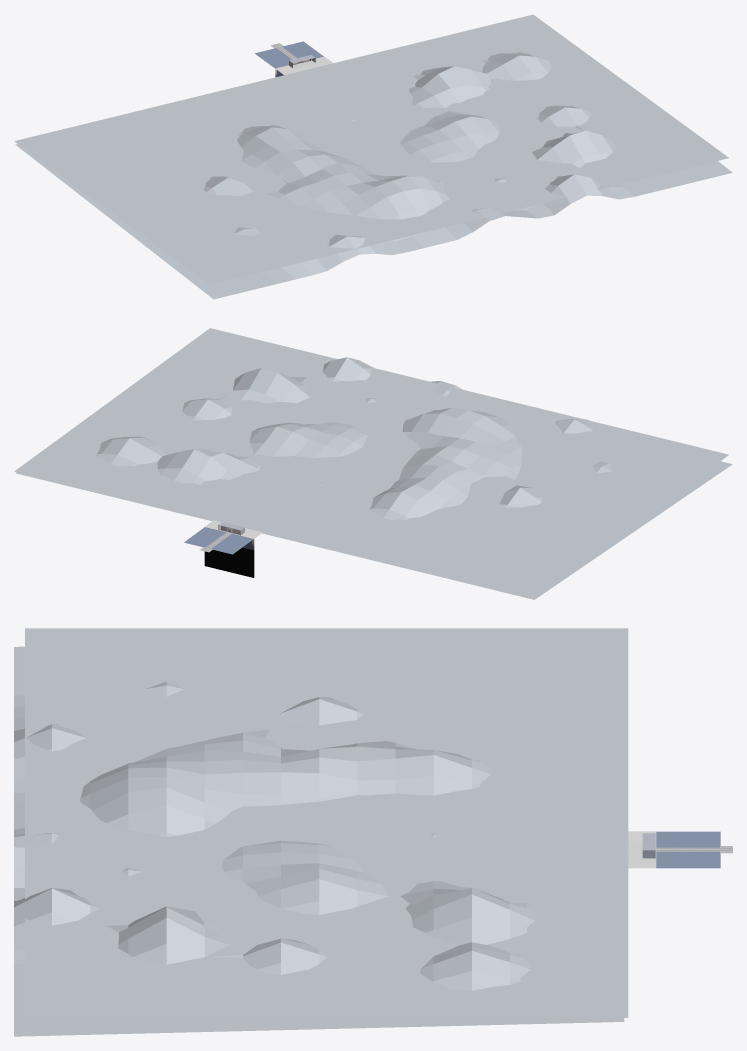
The model's file is intro.gltf.
3 renders of one model, top to bottom at view 1: azimuth 30°, elevation 25°; view 2: azimuth 150°, elevation 25°; view 3: azimuth 270°, elevation 25°, orthographic. The views are drawn at different scales.
Visible parts, largest first — view 1: mountains, water, MUSEUM_build; view 2: mountains, reflect_at_water, water, MUSEUM_build; view 3: mountains, water, MUSEUM_build.
Boxes of the visible parts, x1,y1,x2,y2 form: mountains: (14, 14, 732, 299); water: (255, 41, 323, 68); MUSEUM_build: (275, 55, 333, 74); mountains: (14, 328, 732, 599); reflect_at_water: (204, 539, 254, 577); water: (184, 527, 253, 554); MUSEUM_build: (204, 520, 262, 538); mountains: (14, 628, 628, 1036); water: (656, 831, 720, 868); MUSEUM_build: (628, 831, 656, 868).
Size of the model in its own units: 886 by 92.79 by 691.
Materials: 10 (5 with a texture image).
